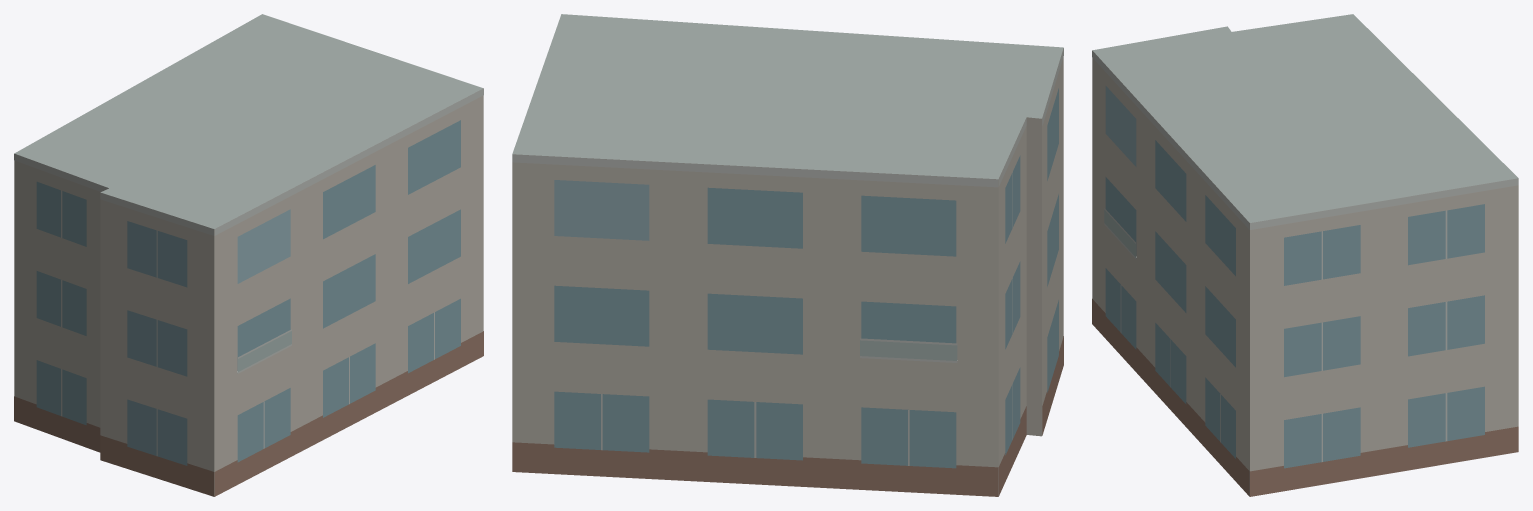
Rendered from survey-upis-32541340.glb.
3 renders of one model, left to right at view 1: azimuth 30°, elevation 25°; view 2: azimuth 150°, elevation 25°; view 3: azimuth 270°, elevation 25°, orthographic. The views are drawn at different scales.
Parts seen in each view (by area): view 1: survey-upis-32541340.tmp; view 2: survey-upis-32541340.tmp; view 3: survey-upis-32541340.tmp.
Boxes of the visible parts, x1,y1,x2,y2 form: survey-upis-32541340.tmp: (14, 14, 483, 496); survey-upis-32541340.tmp: (512, 14, 1063, 496); survey-upis-32541340.tmp: (1092, 14, 1518, 496).
Size of the model in its own units: 15.57 by 9.5 by 13.42.
